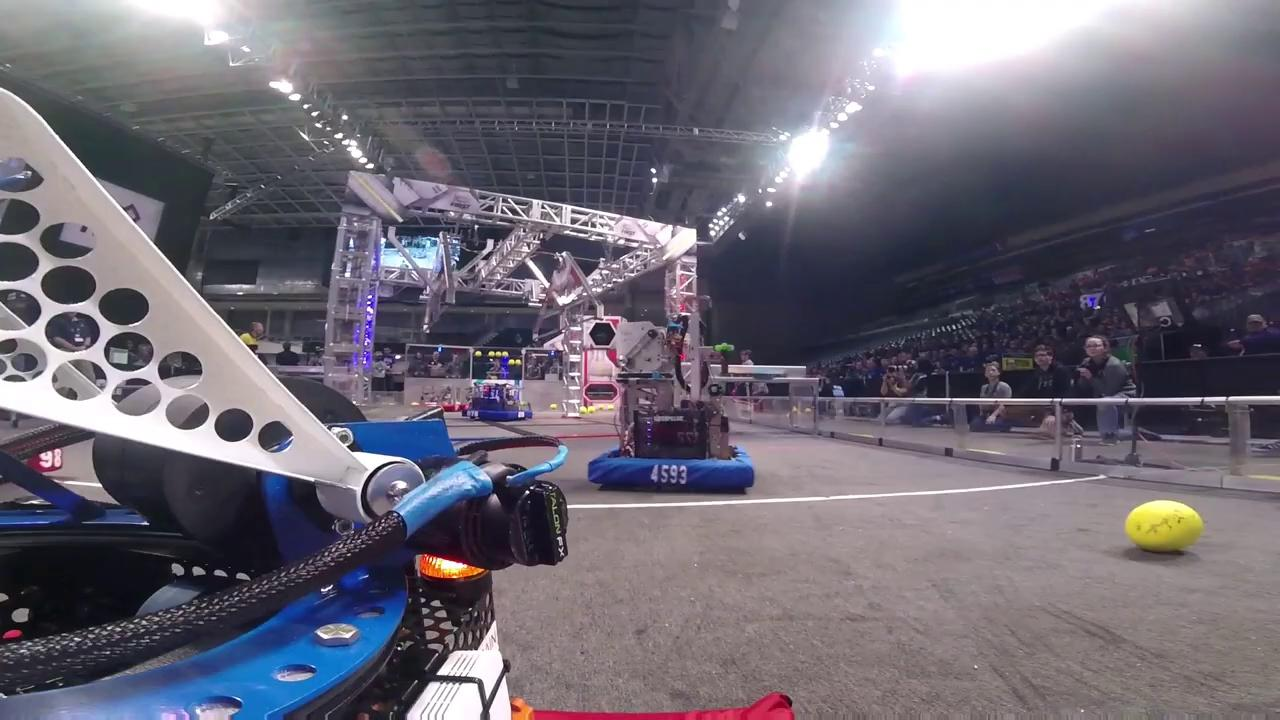robot: (583, 313, 758, 499), (458, 377, 535, 423)
